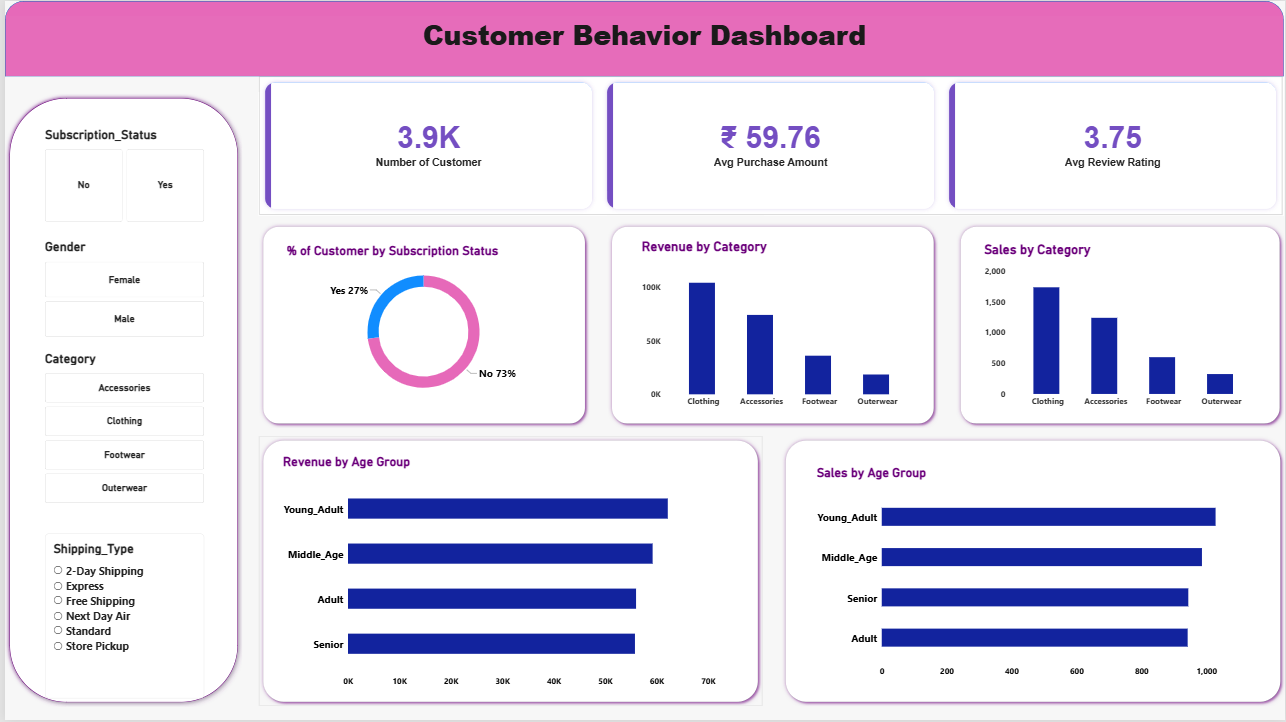

The dashboard page shown, as its layout file describes it:
{"tool":"powerbi","page":{"name":"Page 1","canvas":[2560,1440],"ordinal":0},"visuals":[{"type":"cardVisual","fields":{"Data":["customer_behavior customer.Number of Customer","customer_behavior customer.Avg Purchase Amount","customer_behavior customer.Avg Review Rating"]},"box":[507.7,150.9,2050.1,279.9],"z":0},{"type":"shape","box":[0,0,2557.8,150.9],"z":1000},{"type":"textbox","box":[0,30.2,2557.8,120.8],"z":2000},{"type":"shape","box":[508.6,442.9,661.4,411.7],"z":3000,"group":"g6"},{"type":"group","id":"g1","title":"Group 1","box":[507.7,870,1007.2,540.7],"z":3000},{"type":"shape","box":[1204.8,441.9,661.4,411.7],"z":4000,"group":"g3"},{"type":"group","id":"g2","title":"Group 2","box":[1553.3,870,1007.2,540.7],"z":4000},{"type":"group","id":"g3","title":"Group 3","box":[1204.8,441.9,661.4,411.7],"z":5000},{"type":"donutChart","title":"% of Customer by Subscription Status","fields":{"Y":["CountNonNull(customer_behavior customer.customer_id)"],"Category":["customer_behavior customer.subscription_status"]},"box":[548.9,469.3,579.1,354],"z":5000,"group":"g6"},{"type":"group","id":"g4","title":"Group 4","box":[1901.9,441.9,655.9,411.7],"z":6000},{"type":"shape","box":[1901.9,441.9,655.9,411.7],"z":6000,"group":"g4"},{"type":"group","id":"g5","title":"Group 5","box":[0,183.9,474.8,1226.8],"z":7000},{"type":"clusteredColumnChart","title":"Revenue by Category","fields":{"Y":["Sum(customer_behavior customer.purchase_amount)"],"Category":["customer_behavior customer.category"]},"box":[1256.9,458.4,579.1,373.2],"z":7000,"group":"g3"},{"type":"group","id":"g6","title":"Group 6","box":[508.6,442.9,661.4,411.7],"z":8000},{"type":"clusteredColumnChart","title":"Sales by Category","fields":{"Y":["CountNonNull(customer_behavior customer.customer_id)"],"Category":["customer_behavior customer.category"]},"box":[1943.1,466.6,581.8,365],"z":8000,"group":"g4"},{"type":"shape","box":[0,183.9,474.8,1226.8],"z":9000,"group":"g5"},{"type":"advancedSlicerVisual","title":"Subscription_Status","fields":{"Values":["customer_behavior customer.subscription_status"]},"box":[79.6,252.5,318.4,189.4],"z":10000,"group":"g5"},{"type":"advancedSlicerVisual","title":"Gender","fields":{"Values":["customer_behavior customer.gender"]},"box":[80,476,318.4,194.9],"z":11000,"group":"g5"},{"type":"advancedSlicerVisual","fields":{"Values":["customer_behavior customer.category"]},"box":[79.6,699.9,318.4,304.6],"z":12000,"group":"g5"},{"type":"listSlicer","fields":{"Values":["customer_behavior customer.shipping_type"]},"box":[79.6,1064.9,318.4,329.3],"z":13000,"group":"g5"},{"type":"shape","box":[1553.3,870,1007.2,540.7],"z":14000,"group":"g2"},{"type":"clusteredBarChart","title":"Sales by Age Group","fields":{"Y":["CountNonNull(customer_behavior customer.customer_id)"],"Category":["customer_behavior customer.age_group"]},"box":[1608.2,913.9,897.4,458.3],"z":15000,"group":"g2"},{"type":"shape","box":[507.7,870,1007.2,540.7],"z":16000,"group":"g1"},{"type":"clusteredBarChart","title":"Revenue by Age Group","fields":{"Y":["Sum(customer_behavior customer.purchase_amount)"],"Category":["customer_behavior customer.age_group"]},"box":[540.6,892,897.4,499.5],"z":17000,"group":"g1"}]}

Visuals, with their boxes in screenshot pixels (x1, y1, x2, y2), scaled from the page's 2560x1440 canvas onto the 1286x722 screenshot:
cardVisual - customer_behavior customer.Number of Customer x customer_behavior customer.Avg Purchase Amount: 255, 76, 1285, 216
shape: 0, 0, 1285, 76
textbox: 0, 15, 1285, 76
shape: 255, 222, 588, 428
"Group 1" group: 255, 436, 761, 707
shape: 605, 222, 937, 428
"Group 2" group: 780, 436, 1285, 707
"Group 3" group: 605, 222, 937, 428
"% of Customer by Subscription Status" donutChart: 276, 235, 567, 413
"Group 4" group: 955, 222, 1285, 428
shape: 955, 222, 1285, 428
"Group 5" group: 0, 92, 239, 707
"Revenue by Category" clusteredColumnChart: 631, 230, 922, 417
"Group 6" group: 255, 222, 588, 428
"Sales by Category" clusteredColumnChart: 976, 234, 1268, 417
shape: 0, 92, 239, 707
"Subscription_Status" advancedSlicerVisual: 40, 127, 200, 222
"Gender" advancedSlicerVisual: 40, 239, 200, 336
advancedSlicerVisual - customer_behavior customer.category: 40, 351, 200, 504
listSlicer - customer_behavior customer.shipping_type: 40, 534, 200, 699
shape: 780, 436, 1285, 707
"Sales by Age Group" clusteredBarChart: 808, 458, 1259, 688
shape: 255, 436, 761, 707
"Revenue by Age Group" clusteredBarChart: 272, 447, 722, 698
